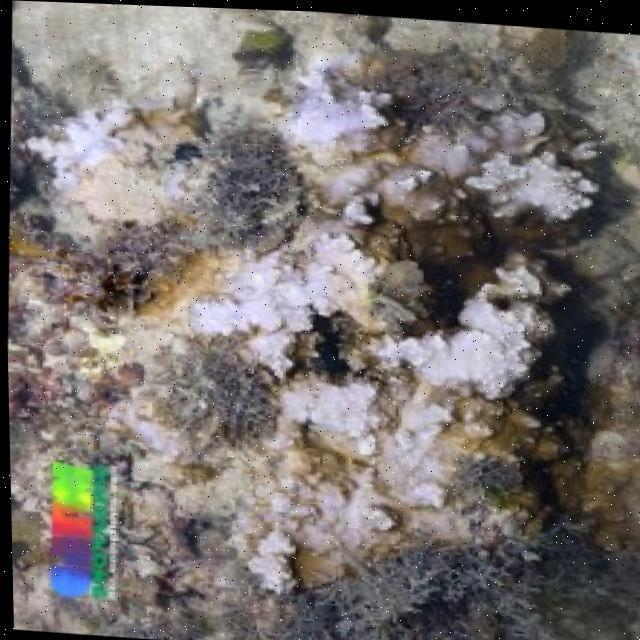Bleached Coral: (158, 217, 558, 419), (185, 347, 478, 588), (255, 76, 602, 240), (4, 67, 192, 244)
